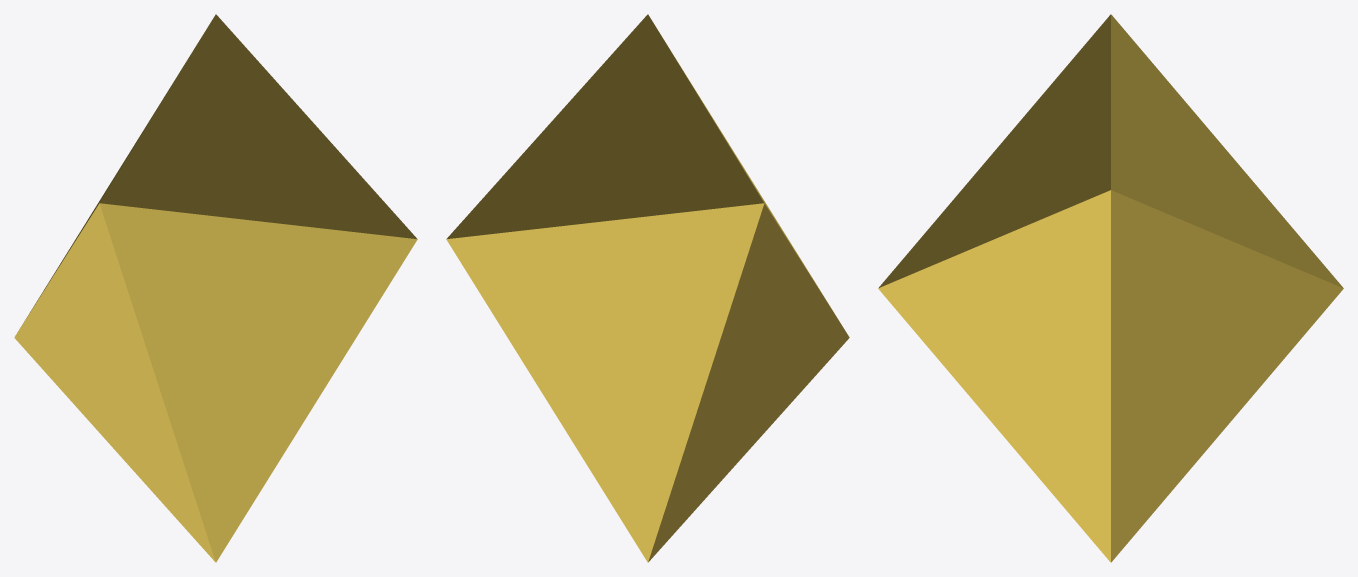
File: golden-eagle.glb
The picture shows the model from 3 angles, left to right: view 1: azimuth 30°, elevation 25°; view 2: azimuth 150°, elevation 25°; view 3: azimuth 270°, elevation 25°; orthographic projection.
Bounding box in the file's own units: 2 × 2.6 × 2.
